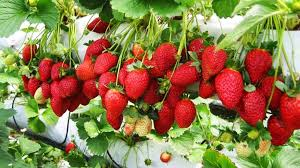Fresa: (213, 66, 245, 111), (242, 42, 275, 85), (236, 84, 268, 128), (258, 70, 286, 117), (198, 40, 228, 81), (124, 61, 151, 101), (266, 111, 295, 148), (278, 87, 300, 133), (151, 96, 175, 137), (169, 59, 204, 87), (101, 83, 130, 116), (171, 96, 199, 130), (153, 40, 180, 73), (92, 49, 120, 75), (57, 70, 83, 98), (86, 13, 116, 36), (36, 53, 56, 82), (102, 108, 125, 133), (81, 76, 102, 101), (50, 93, 71, 118), (20, 40, 40, 66), (75, 61, 99, 80), (26, 74, 40, 96)
